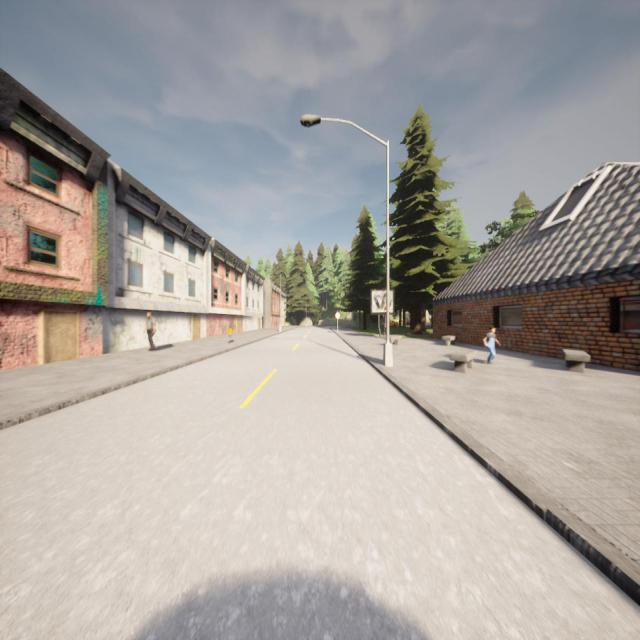Pedestrian: (483, 327, 500, 362), (146, 312, 156, 350), (227, 325, 234, 343)
Traffic_Signs: (334, 312, 340, 320)
